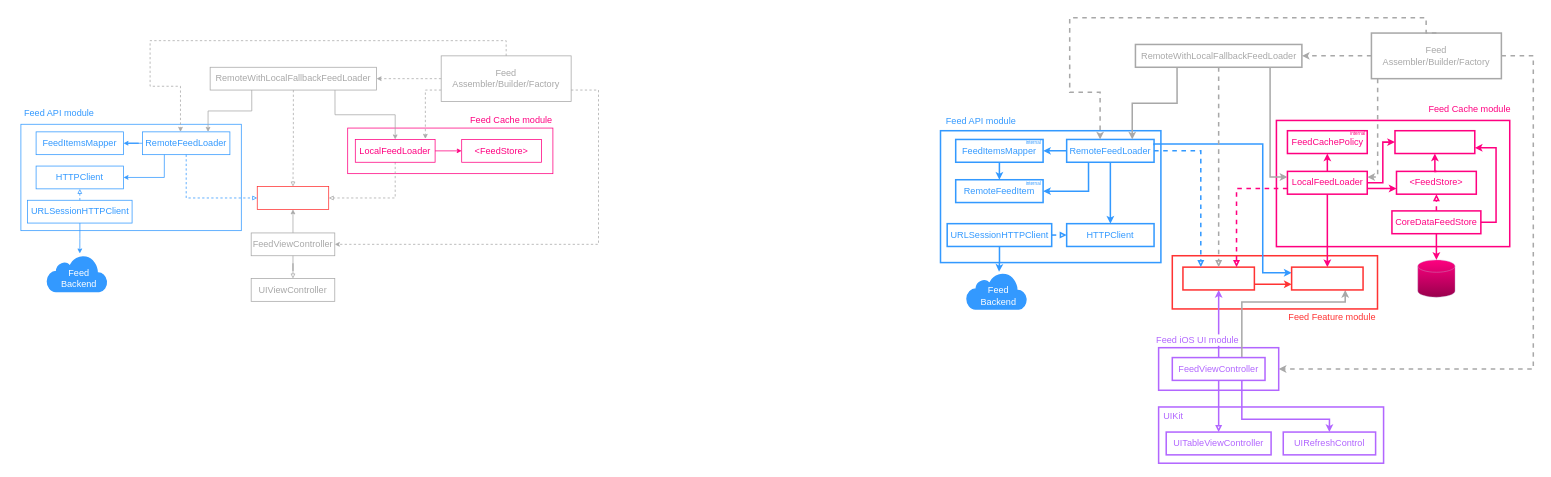
This 1551x477 diagram has some shape labels left out. Here are the shapes that lost their labels. From the top down, the centre of each, then its label:
At (x=1434, y=142): "LocalFeedImage".
At (x=292, y=197): "<Feed Feature>".
At (x=1218, y=278): "<FeedLoader>".
At (x=1326, y=278): "FeedImage".
At (x=1436, y=278): "Core Data".
